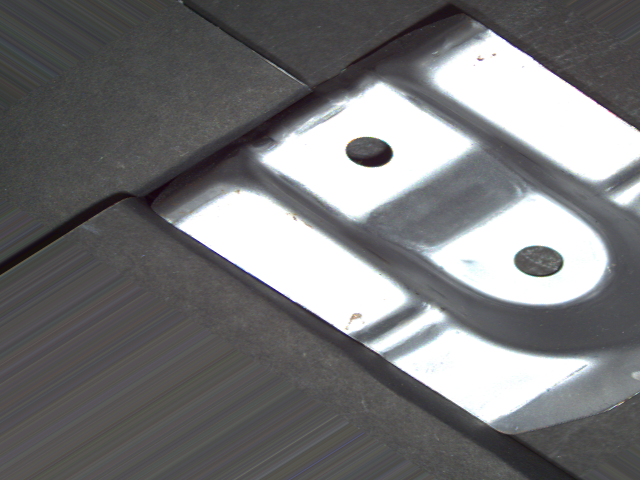defect: (505, 240, 569, 280)
